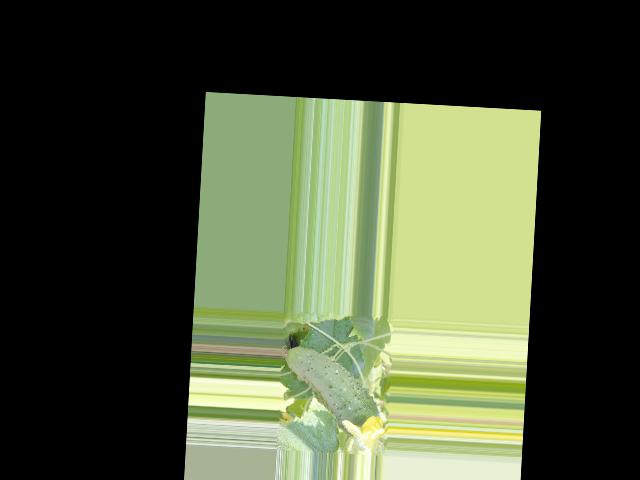cucumber: (276, 344, 383, 438)
